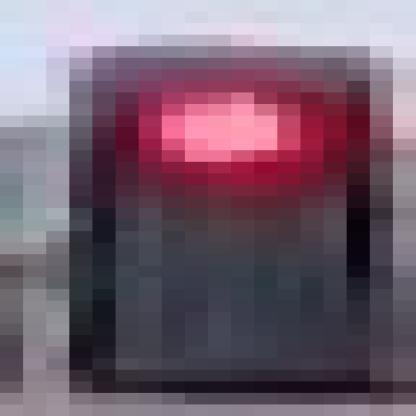Red Light: (76, 52, 390, 386)
